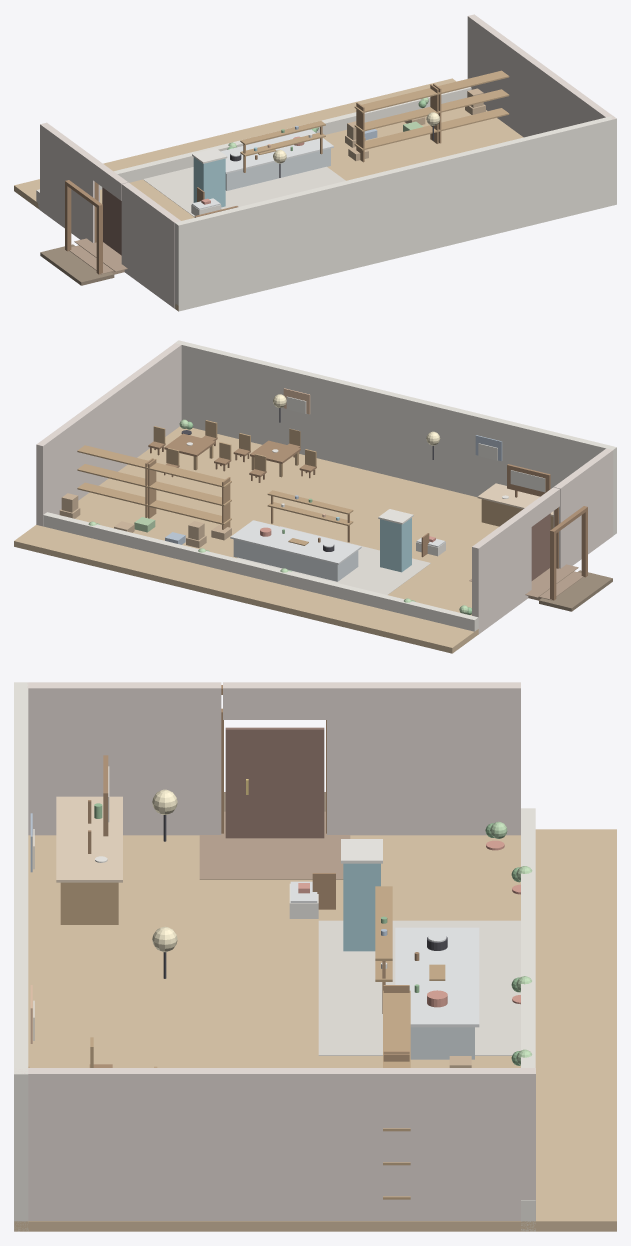
File: restaurant_final.glb
3 views of the same model, one above another, from view 1: azimuth 30°, elevation 25°; view 2: azimuth 150°, elevation 25°; view 3: azimuth 270°, elevation 25° (orthographic). The views are drawn at different scales.
Visible parts, largest first — view 1: WBack, Floor, WR, WL1, WL2, KitchenFloor, WF, Kit, KitTop, Frig, EFloor, DoorP (+14 smaller); view 2: Floor, WBack, WR, WF, WL2, WL1, KitTop, KitchenFloor, Kit, Frig, EFloor, DoorP (+19 smaller); view 3: Floor, WR, WL2, WL1, KitchenFloor, DoorP, WBack, KitTop, DoorFloor, CntrTop, WF, WLint (+7 smaller).
Part boxes in pixels (x1,y1,x2,y2): WBack: (175, 116, 616, 311); Floor: (14, 78, 523, 311); WR: (467, 14, 616, 137); WL1: (121, 182, 180, 308); WL2: (40, 122, 99, 242); KitchenFloor: (143, 166, 345, 216); WF: (36, 87, 471, 209); Kit: (225, 148, 330, 190); KitTop: (221, 129, 333, 173); Frig: (193, 157, 225, 207); EFloor: (40, 244, 114, 285); DoorP: (102, 187, 121, 255); Floor: (14, 426, 498, 653); WBack: (175, 340, 616, 535); WR: (36, 341, 181, 526); WF: (43, 512, 478, 631); WL2: (472, 508, 531, 634); WL1: (553, 448, 613, 568); KitTop: (230, 520, 361, 564); KitchenFloor: (237, 526, 430, 594); Kit: (233, 539, 358, 581); Frig: (380, 518, 411, 572); EFloor: (539, 570, 612, 611); DoorP: (531, 513, 550, 580); Floor: (14, 829, 616, 1231); WR: (15, 1068, 535, 1220); WL2: (327, 682, 520, 835); WL1: (27, 682, 221, 835); KitchenFloor: (318, 920, 520, 1055); DoorP: (225, 727, 324, 838); WBack: (14, 682, 28, 1231); KitTop: (395, 927, 479, 1027); DoorFloor: (199, 818, 350, 879); CntrTop: (56, 796, 122, 882); WF: (521, 808, 535, 1231); WLint: (223, 682, 327, 719).
Size of the model in its own units: 17.73 by 3.36 by 10.4.
